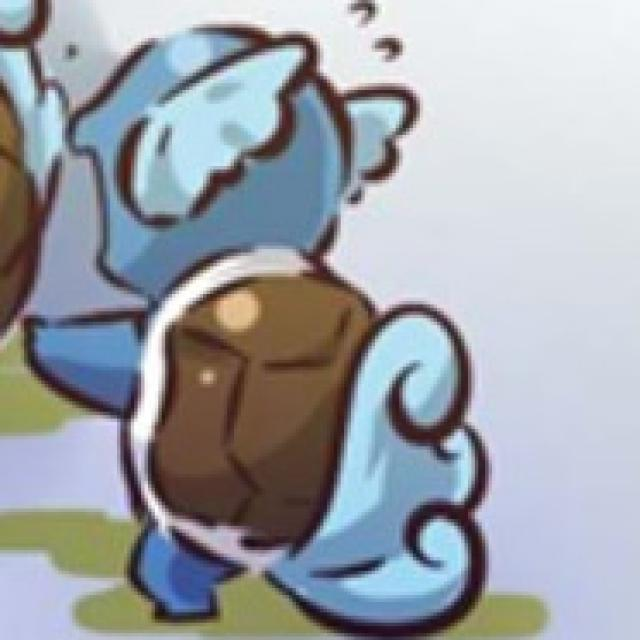Wartortle: (57, 0, 570, 640)
